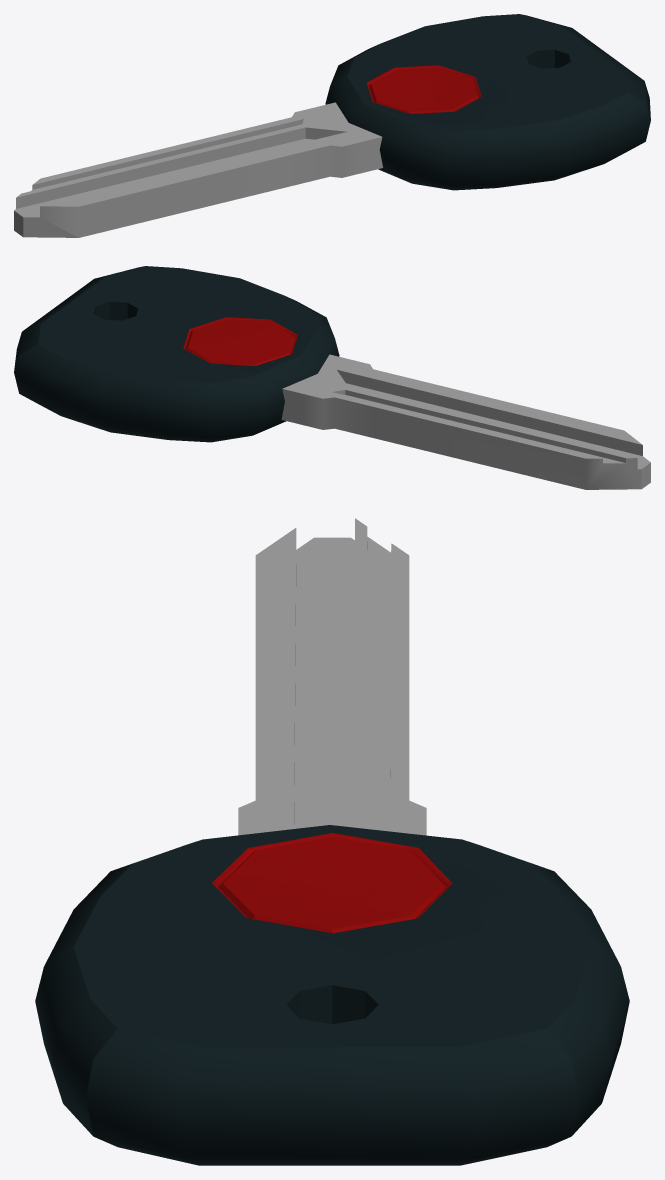
File: chave_escritorio.fbx
The picture shows the model from 3 angles, top to bottom: view 1: azimuth 30°, elevation 25°; view 2: azimuth 150°, elevation 25°; view 3: azimuth 270°, elevation 25°; orthographic projection. The views are drawn at different scales.
Visible parts, largest first — view 1: pCube110; view 2: pCube110; view 3: pCube110.
Boxes of the visible parts, x1,y1,x2,y2 form: pCube110: (14, 14, 650, 237); pCube110: (14, 266, 650, 489); pCube110: (35, 518, 629, 1165).
Size of the model in its own units: 7.27 by 0.6961 by 3.16.
